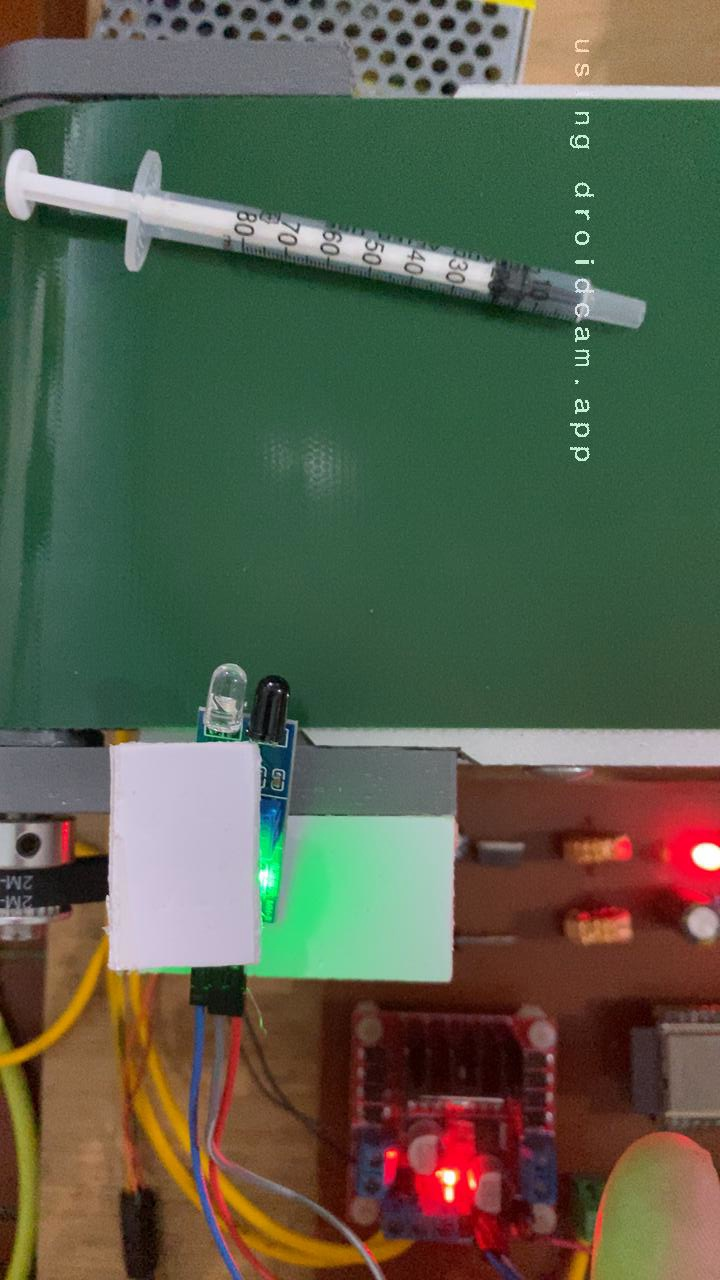syringe: (0, 142, 654, 333)
